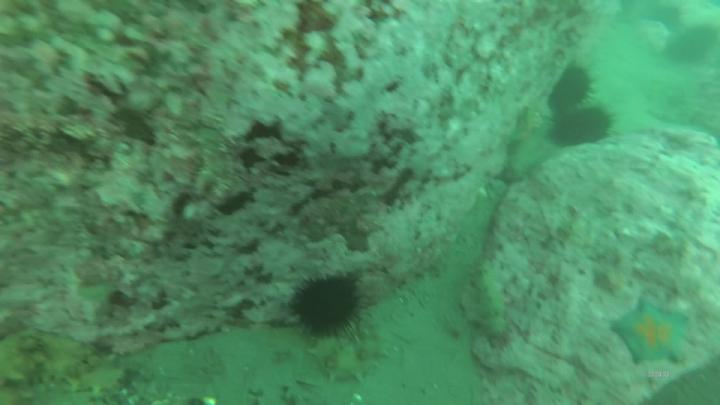echinus: (294, 277, 359, 334), (669, 22, 719, 64), (550, 109, 611, 143), (552, 69, 593, 112)
holothurian: (1, 329, 98, 384), (307, 330, 390, 377), (472, 262, 512, 337)
starfish: (615, 298, 689, 367)
